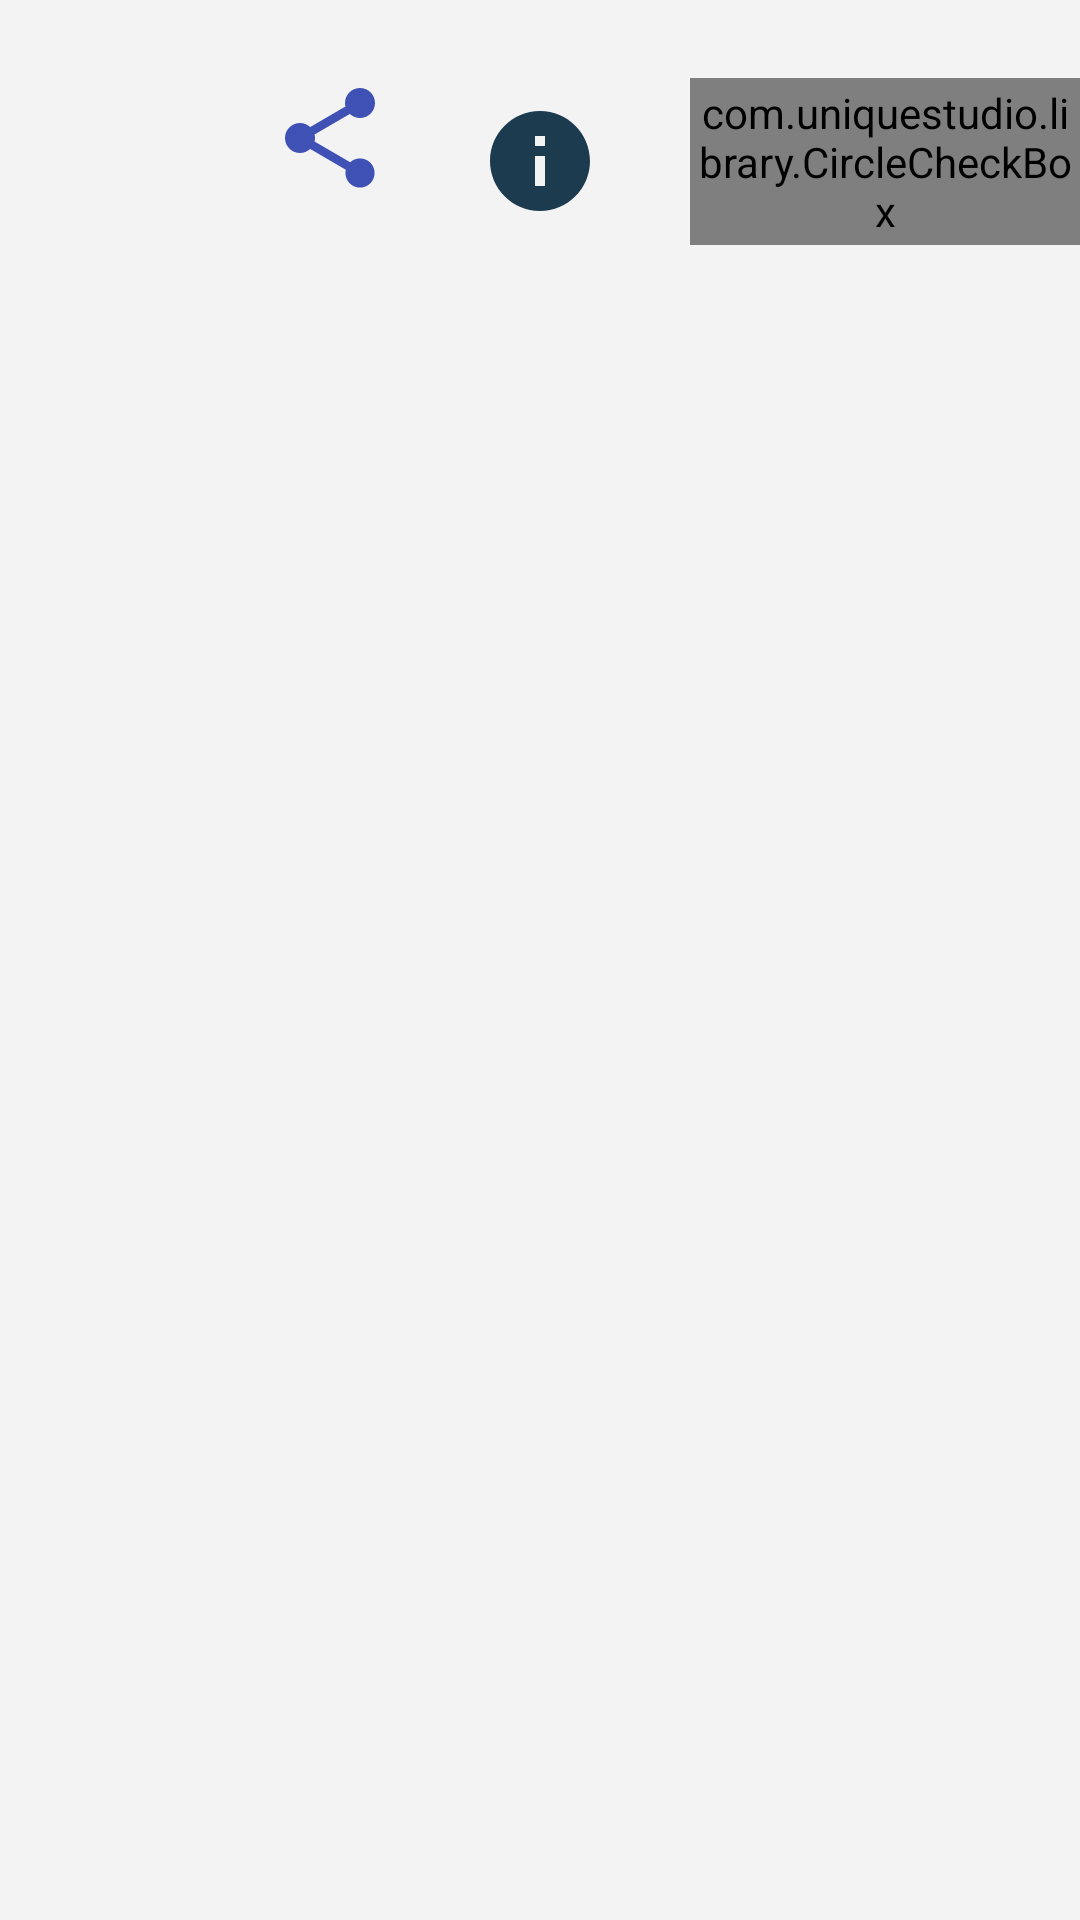

Locate icon controls on the screen. Image size 1080x1920, boxes as (x1, y1, x2, y2).
info: (490, 111, 590, 211)
share: (285, 88, 375, 188)
